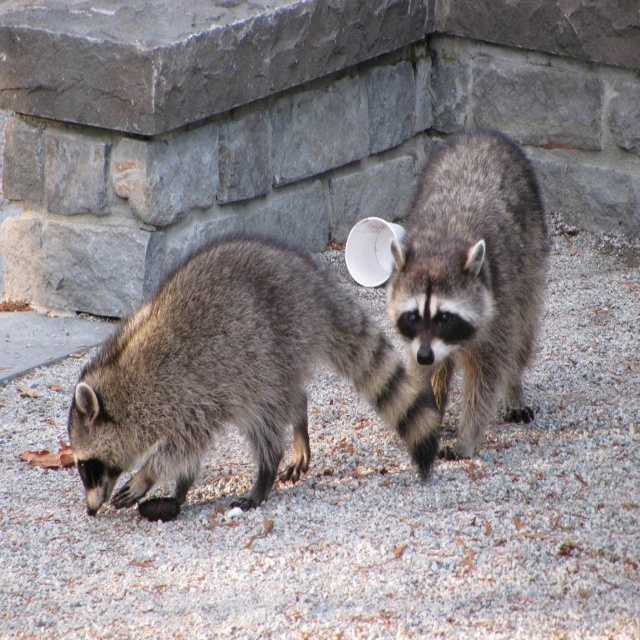Raccoon: (67, 229, 443, 516), (387, 130, 553, 462)
